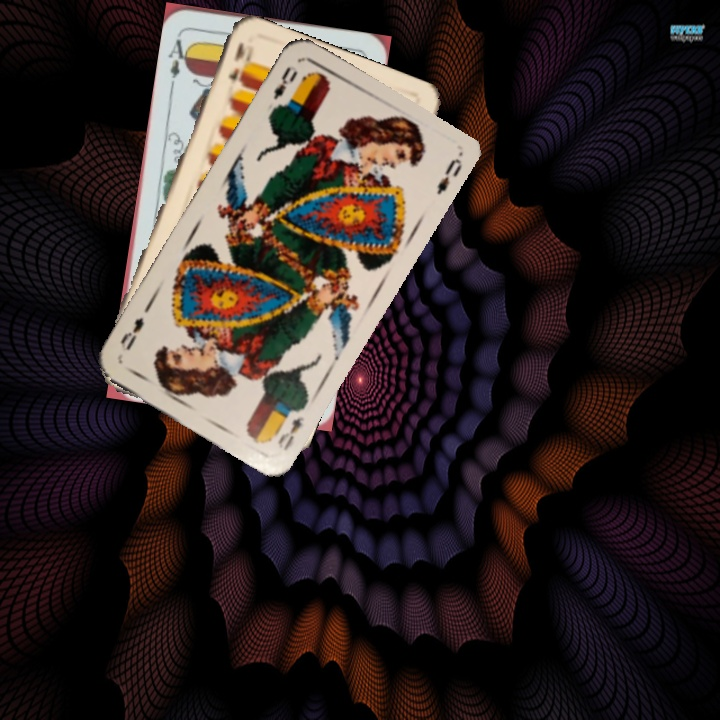E10: (224, 38, 252, 86)
EA: (165, 29, 194, 88)
EO: (269, 62, 301, 113), (273, 412, 307, 453)
